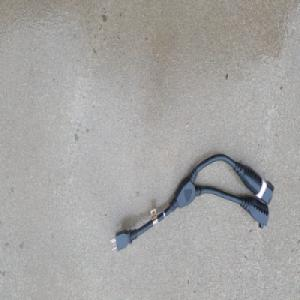Wire: (110, 152, 274, 252)
